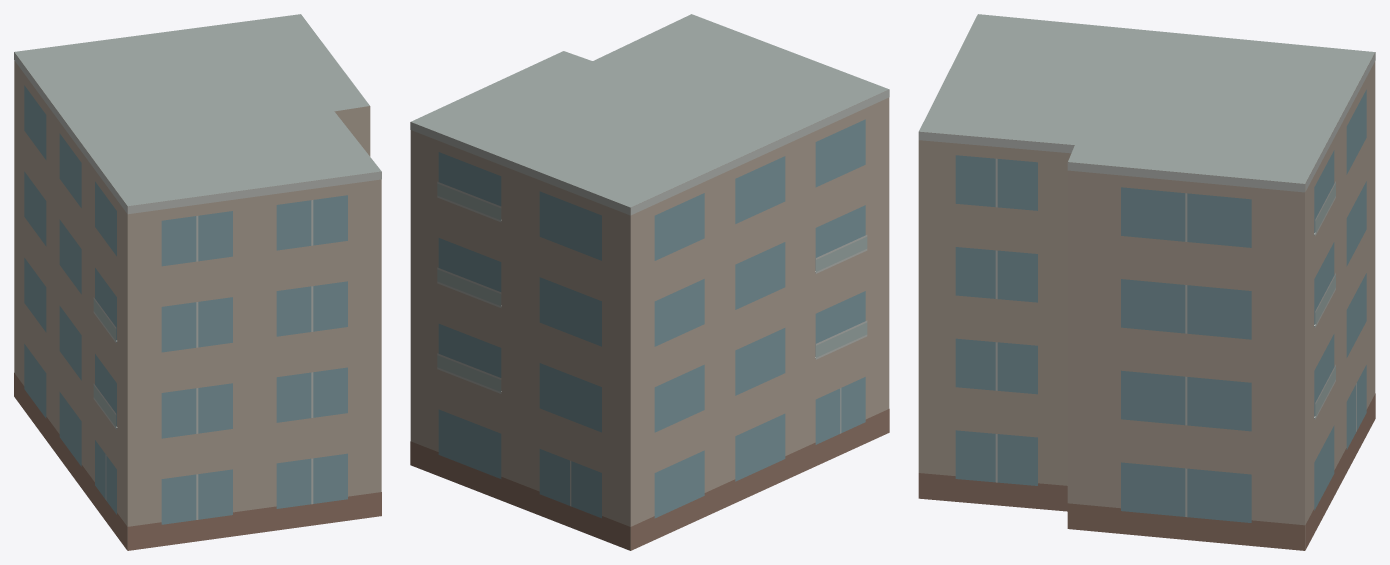
Rendered from survey-upis-32955465.glb.
3 renders of one model, left to right at view 1: azimuth 30°, elevation 25°; view 2: azimuth 150°, elevation 25°; view 3: azimuth 270°, elevation 25°, orthographic. The views are drawn at different scales.
Visible parts, largest first — view 1: survey-upis-32955465.tmp; view 2: survey-upis-32955465.tmp; view 3: survey-upis-32955465.tmp.
Boxes of the visible parts, left/top/right/bottom form: survey-upis-32955465.tmp: left=14, top=14, right=381, bottom=550; survey-upis-32955465.tmp: left=410, top=14, right=889, bottom=550; survey-upis-32955465.tmp: left=918, top=14, right=1375, bottom=550.
Size of the model in its own units: 10.44 by 10.5 by 11.85.
